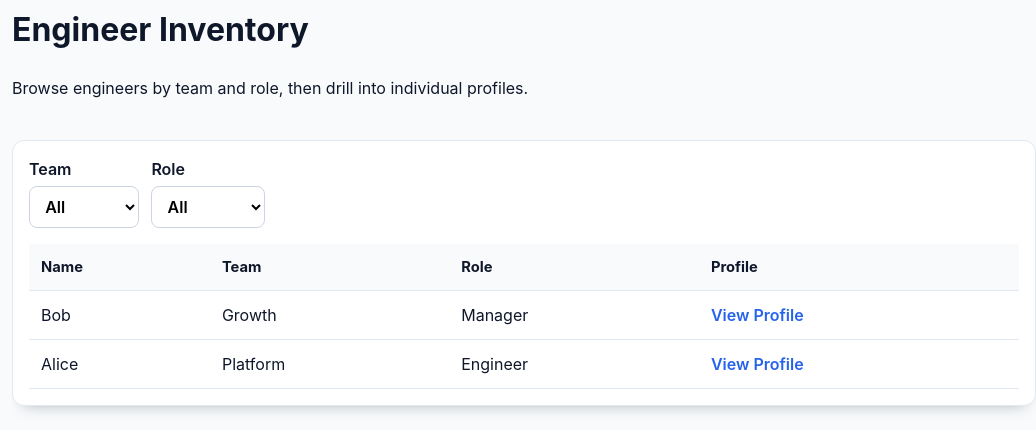
Test: EngineersPage › filters by team
Expected: the text "Alice" is shown, [29,340,210,389]
Select "Growth" in the dropdown with test id "team-filter" at (84, 207), box [29,186,139,228]
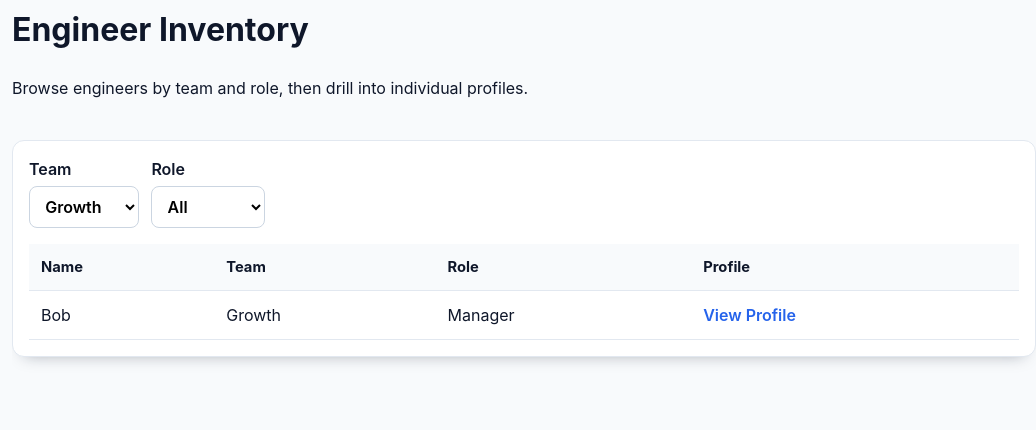
Expected: the text "Bob" is shown, [29,291,214,340]
Expected: the text "Alice" is gone
